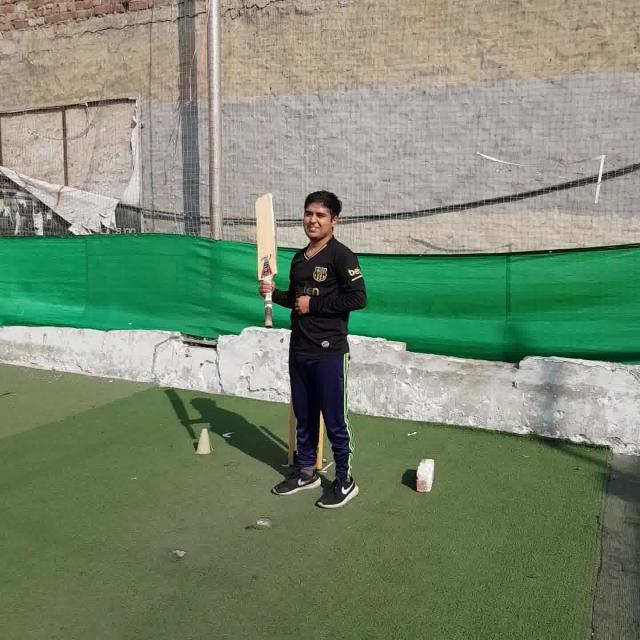bat: (254, 194, 278, 326)
